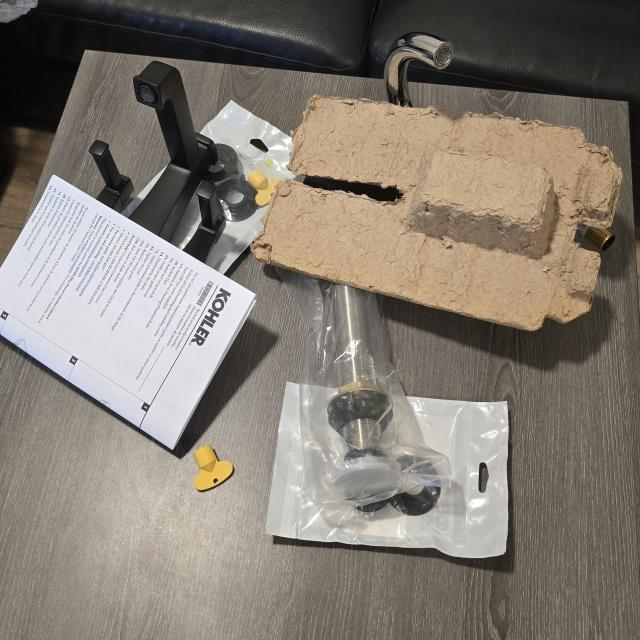10o: (384, 32, 453, 106)
11o: (282, 270, 450, 510)
12o: (200, 100, 296, 273)
13o: (266, 382, 509, 558)
14: (194, 443, 233, 491)
8: (0, 176, 255, 449)
9o: (89, 61, 225, 262)
